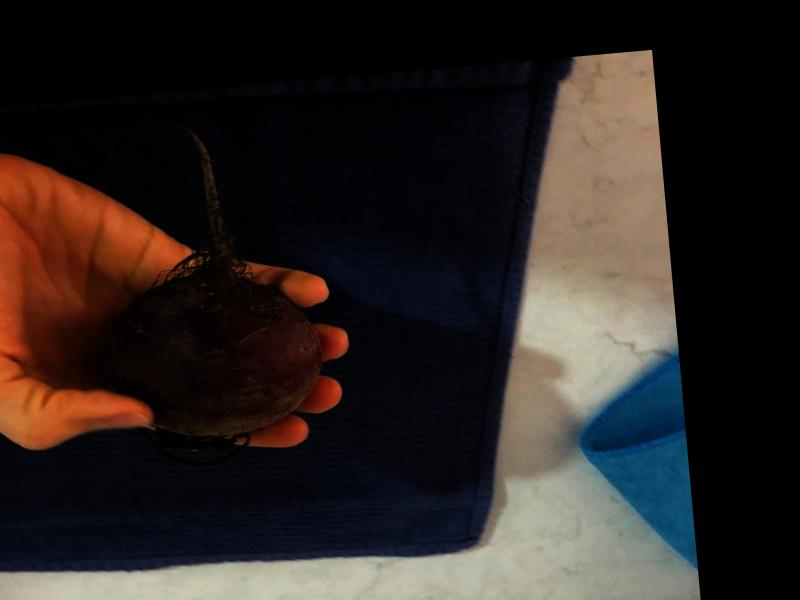Beet: (82, 113, 331, 473)
